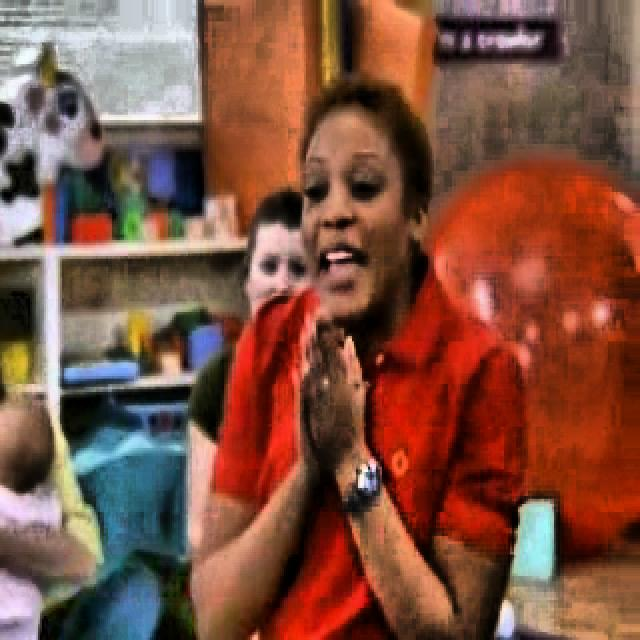F: (218, 77, 494, 640)
